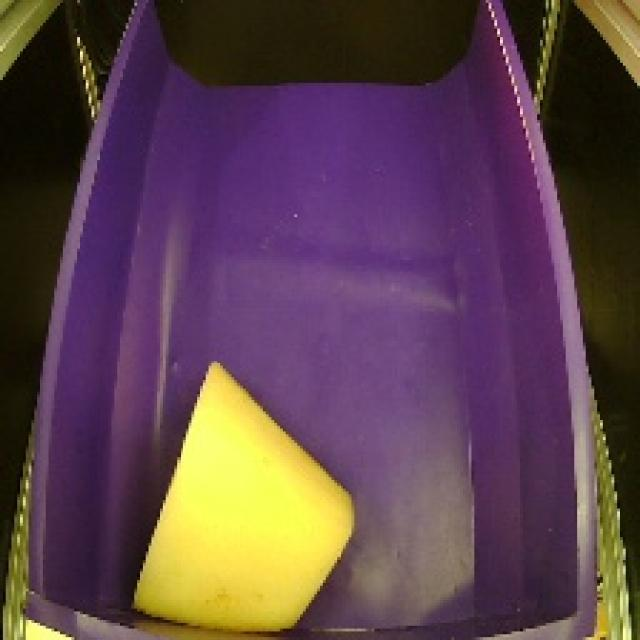potato: (124, 350, 368, 634)
